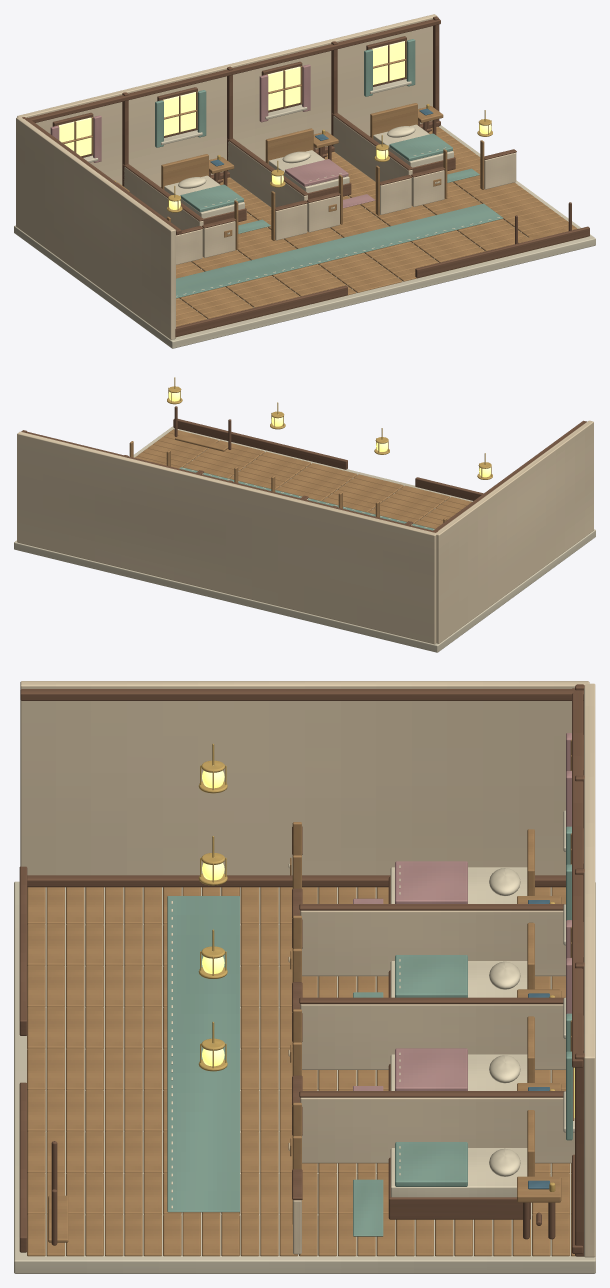
The model's file is hall-dormitory.glb.
The picture shows the model from 3 angles, top to bottom: view 1: azimuth 30°, elevation 25°; view 2: azimuth 150°, elevation 25°; view 3: azimuth 270°, elevation 25°; orthographic projection. The views are drawn at different scales.
Parts seen in each view (by area): view 1: Forest hamlet; view 2: Forest hamlet; view 3: Forest hamlet.
Boxes of the visible parts, bbox=[...] form: Forest hamlet: bbox=[14, 14, 595, 348]; Forest hamlet: bbox=[14, 377, 595, 652]; Forest hamlet: bbox=[14, 681, 595, 1273].
Bounding box in the file's own units: 14.2 × 3.74 × 9.2.
Materials: 11 (11 with a texture image).
